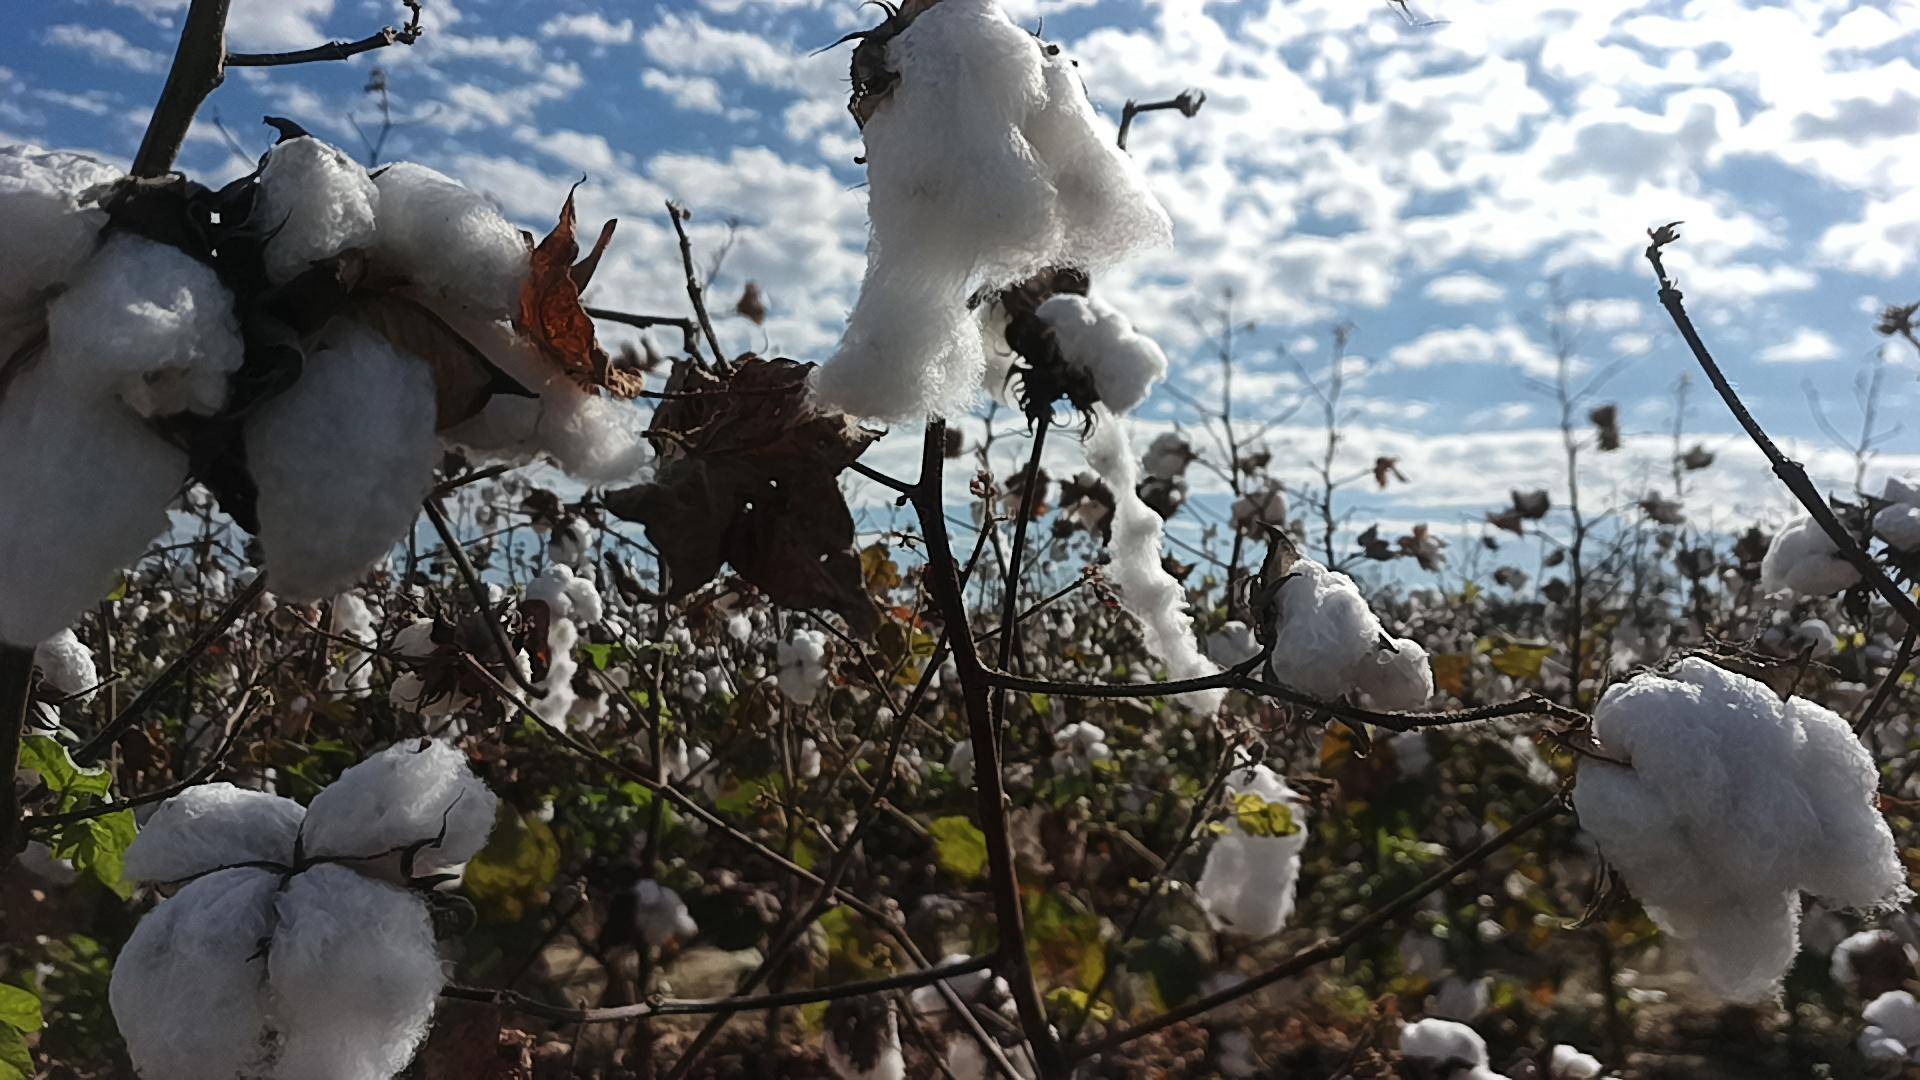cotton_ready: (245, 137, 658, 605), (108, 733, 501, 1080), (806, 0, 1122, 426), (0, 153, 237, 651), (1576, 658, 1905, 1006), (1043, 295, 1230, 715), (1275, 558, 1436, 715), (1203, 764, 1312, 939), (913, 945, 1046, 1080), (388, 618, 527, 720), (527, 563, 600, 733), (1830, 931, 1920, 1047), (1758, 506, 1859, 603), (825, 993, 907, 1080), (1398, 1023, 1518, 1080), (32, 626, 100, 703), (1878, 477, 1920, 559)
